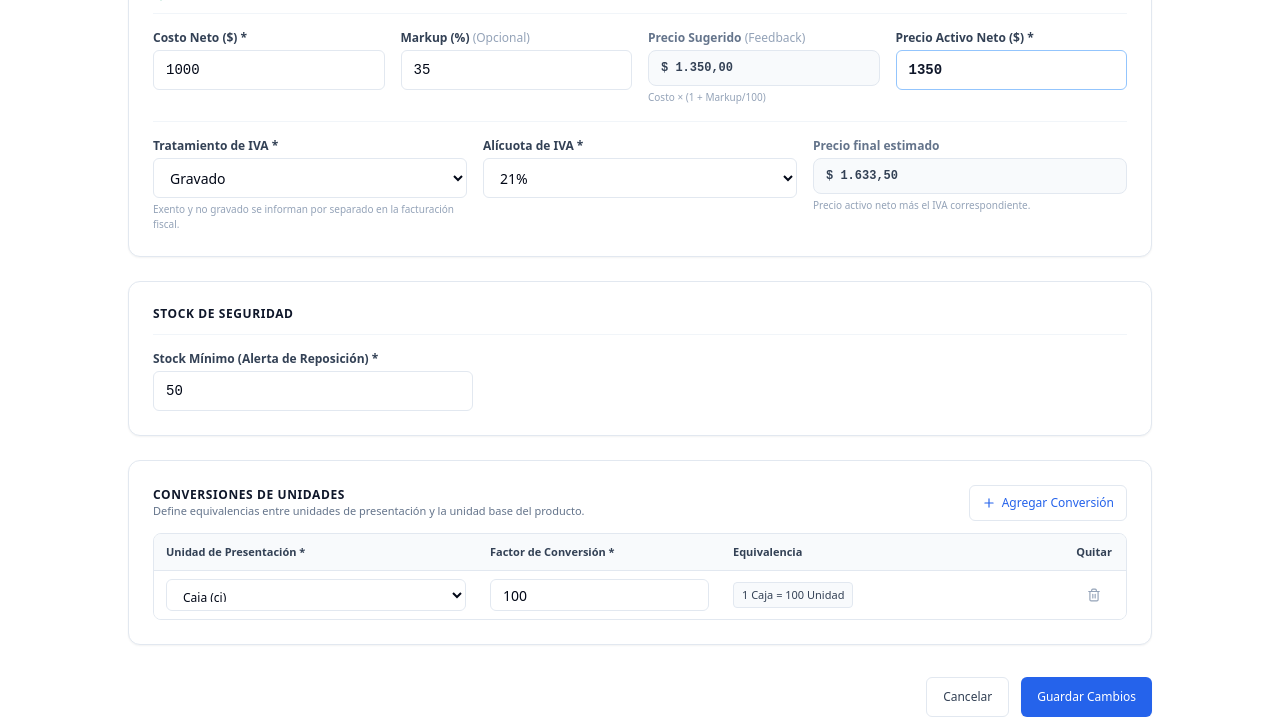
Test: ProductEditPage › shows no-op message if submit is clicked without changes
(page scrolled)
Click the button "Guardar Cambios" at (1087, 697), box [1021, 677, 1152, 716]
(page scrolled)
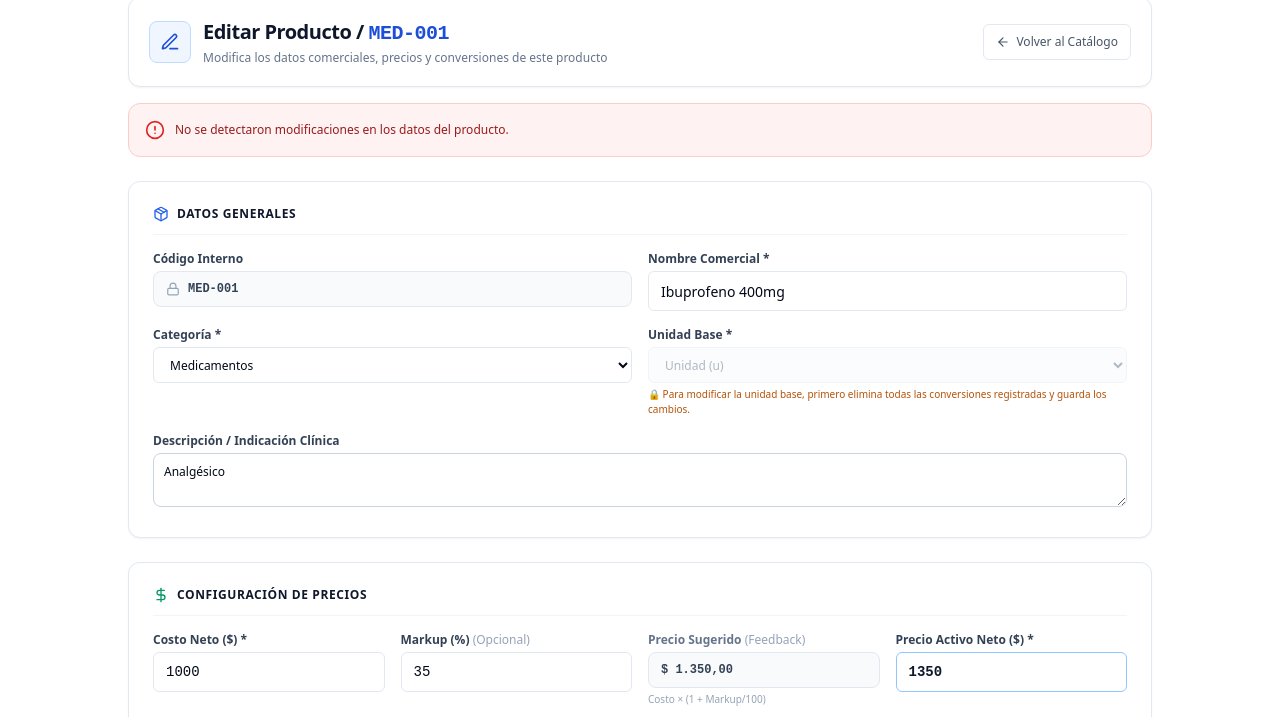
Expected: the text "No se detectaron modificaciones en los datos del producto." is shown, [175, 122, 509, 138]
